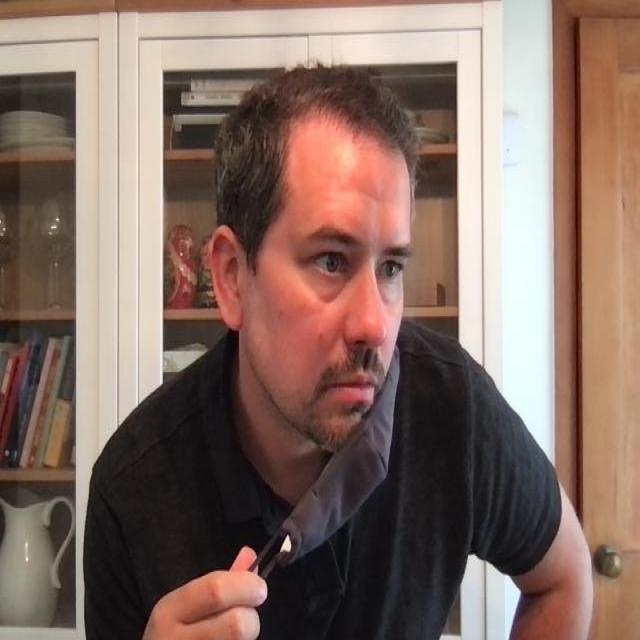face: (206, 68, 420, 455)
